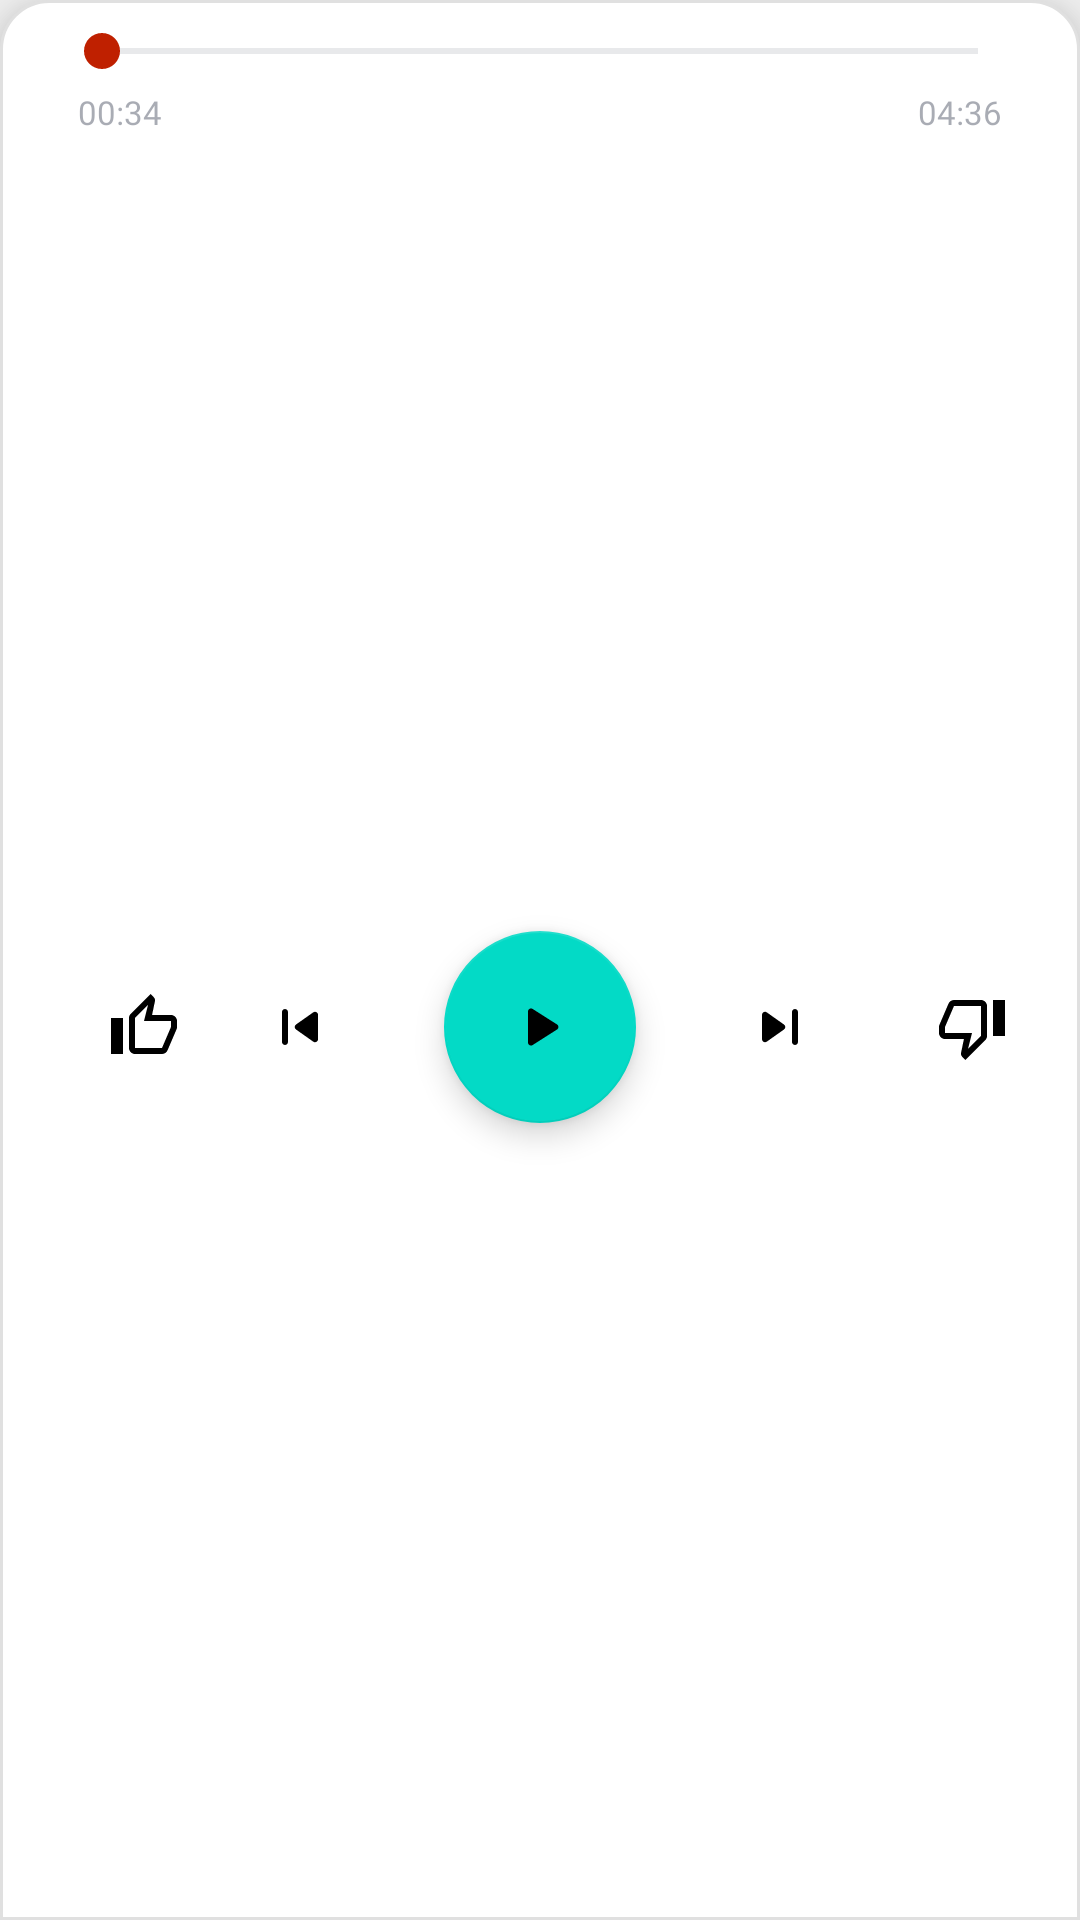

Icon click points for this 1080 × 1920 phone screenshot, format (x,y):
play: (540,1027)
skip next: (780,1027)
skip previous: (300,1027)
thumb down: (972,1030)
thumb up: (144,1024)
